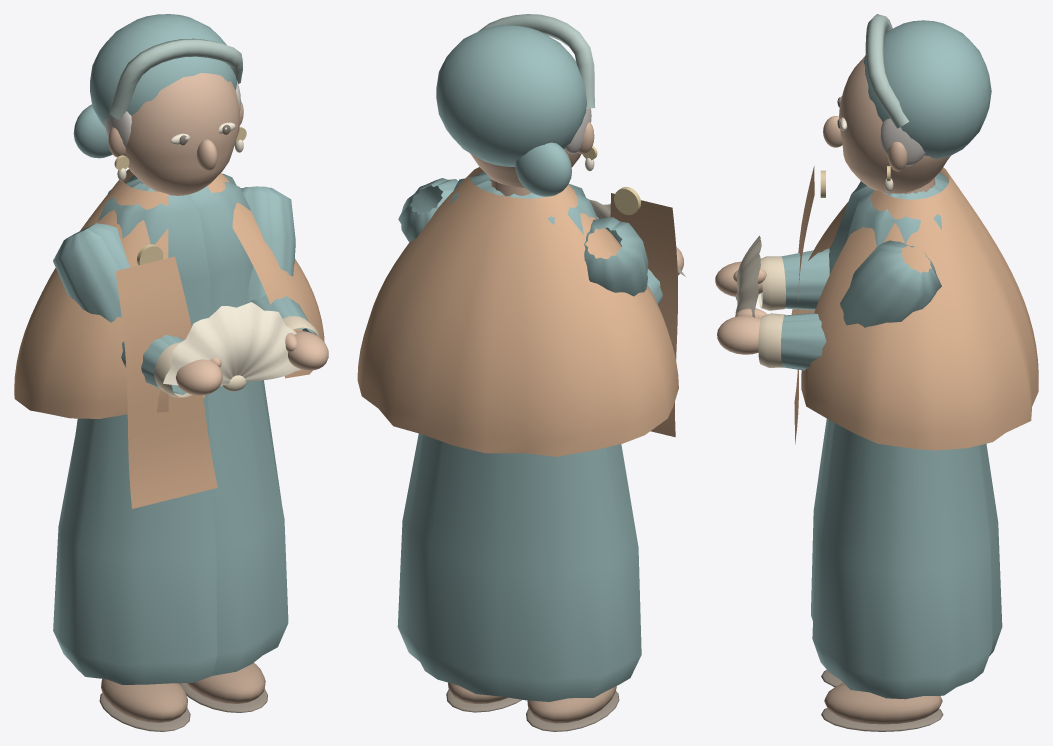
File: character-bulamat.glb
The picture shows the model from 3 angles, left to right: view 1: azimuth 30°, elevation 25°; view 2: azimuth 150°, elevation 25°; view 3: azimuth 270°, elevation 25°; orthographic projection. The views are drawn at different scales.
Visible parts, largest first — view 1: Group_1, Group_88, Group_97, Group_47, Group_76, Group_109, Group_29, Group_11, Group_38, Group_31, Group_21, Group_40; view 2: Group_88, Group_1, Group_76, Group_97, Group_29, Group_11, Group_38, Group_47, Group_21; view 3: Group_1, Group_88, Group_76, Group_47, Group_38, Group_40, Group_31, Group_21, Group_109, Group_97.
Part boxes in pixels (left/top/right/bottom): Group_1: left=53, top=173, right=288, bottom=684; Group_88: left=14, top=169, right=324, bottom=418; Group_97: left=115, top=256, right=217, bottom=508; Group_47: left=105, top=73, right=246, bottom=195; Group_76: left=73, top=14, right=242, bottom=158; Group_109: left=163, top=302, right=299, bottom=391; Group_29: left=53, top=223, right=130, bottom=322; Group_11: left=99, top=679, right=190, bottom=731; Group_38: left=240, top=186, right=295, bottom=304; Group_31: left=121, top=335, right=222, bottom=397; Group_21: left=179, top=663, right=267, bottom=712; Group_40: left=251, top=295, right=328, bottom=371; Group_88: left=357, top=167, right=678, bottom=456; Group_1: left=397, top=172, right=641, bottom=701; Group_76: left=436, top=14, right=595, bottom=196; Group_97: left=610, top=193, right=677, bottom=437; Group_29: left=584, top=217, right=648, bottom=296; Group_11: left=526, top=686, right=619, bottom=731; Group_38: left=398, top=178, right=458, bottom=242; Group_47: left=470, top=108, right=597, bottom=188; Group_21: left=446, top=682, right=521, bottom=712; Group_1: left=811, top=170, right=1002, bottom=699; Group_88: left=791, top=167, right=1038, bottom=450; Group_76: left=863, top=14, right=991, bottom=158; Group_47: left=823, top=56, right=950, bottom=193; Group_38: left=840, top=240, right=941, bottom=327; Group_40: left=717, top=308, right=826, bottom=370; Group_31: left=715, top=248, right=829, bottom=310; Group_21: left=821, top=683, right=943, bottom=731; Group_109: left=735, top=235, right=761, bottom=317; Group_97: left=794, top=166, right=814, bottom=444.
Bounding box in the file's own units: 0.86 × 1.93 × 0.8403.
